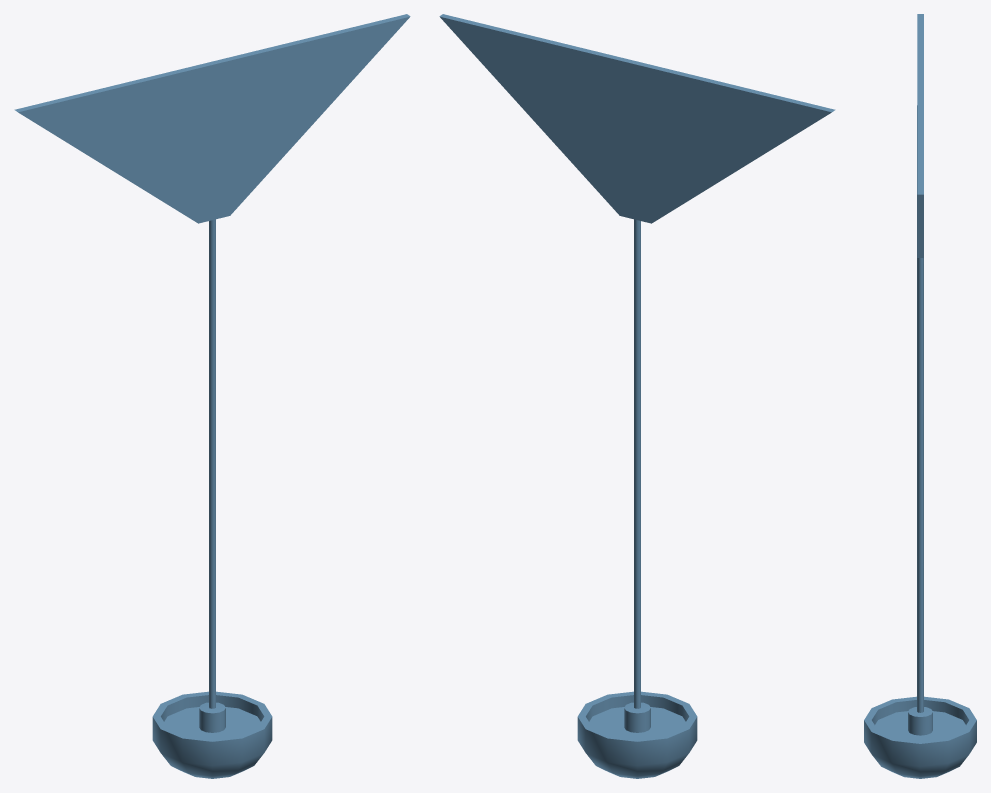
Rendered from FHXY_02BX_A17_BiaoZhiQi_MD_L.fbx.
3 views of the same model, side by side, from view 1: azimuth 30°, elevation 25°; view 2: azimuth 150°, elevation 25°; view 3: azimuth 270°, elevation 25° (orthographic). The views are drawn at different scales.
Visible parts, largest first — view 1: FHXY_02BX_A17_BiaoZhiQi_MD_L01; view 2: FHXY_02BX_A17_BiaoZhiQi_MD_L01; view 3: FHXY_02BX_A17_BiaoZhiQi_MD_L01.
Boxes of the visible parts, box(x1,y1,x2,y2) form: FHXY_02BX_A17_BiaoZhiQi_MD_L01: box(14, 14, 410, 778); FHXY_02BX_A17_BiaoZhiQi_MD_L01: box(439, 14, 835, 778); FHXY_02BX_A17_BiaoZhiQi_MD_L01: box(864, 14, 976, 778).
Size of the model in its own units: 28.68 by 48.93 by 7.58.
